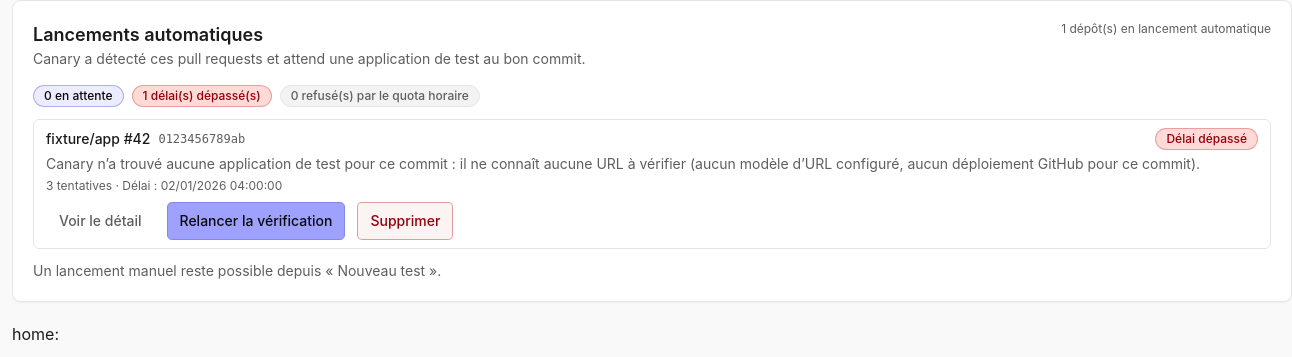
Test case: AutomaticRuns › re-arms a failed attempt and shows it waiting again
Click the button "Relancer la vérification".
click(256, 221)  # box x1=166 y1=202 x2=345 y2=240
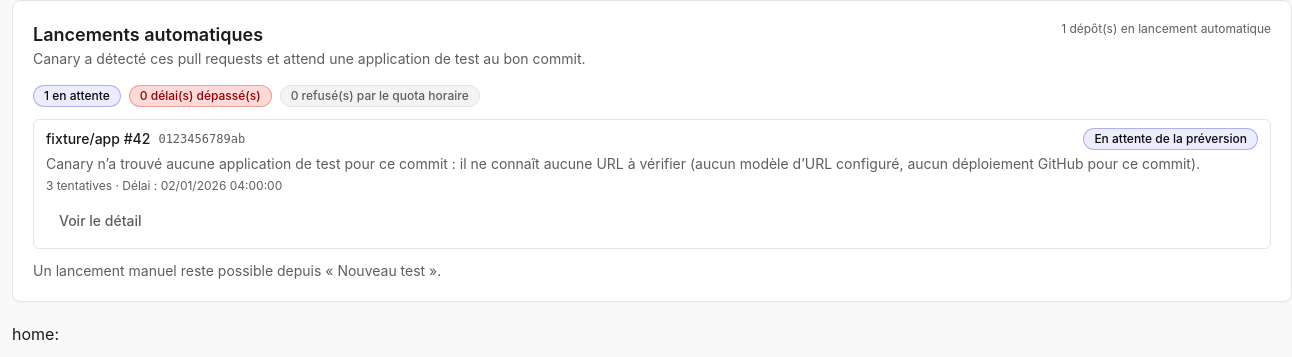
Expected: the text "En attente de la préversion" is shown, x1=1083 y1=128 x2=1258 y2=150
Expected: the text "Délai dépassé" is gone
Expected: the text "1 en attente" is shown, x1=33 y1=85 x2=121 y2=107
